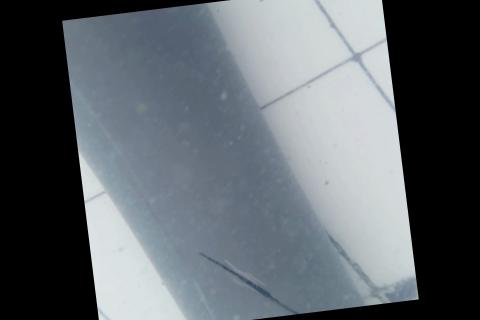keretakan: (198, 234, 338, 320)
